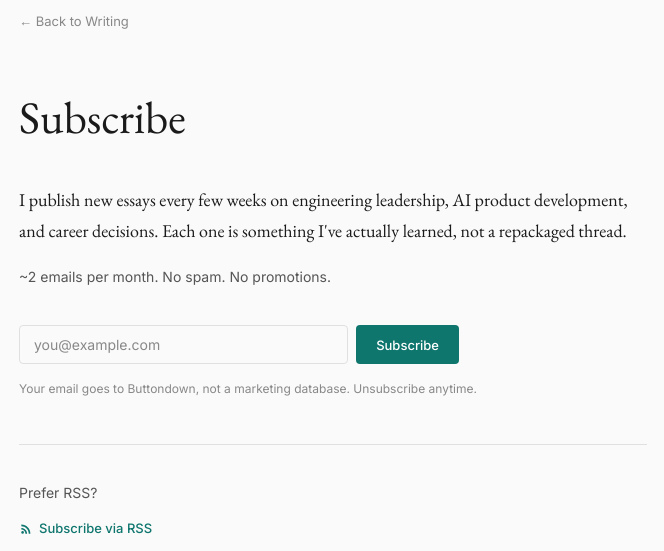
Test: Subscribe page — loading state › shows "Subscribing…" during loading
Type "test@example.com" into the field named "Email address" at [184, 344], box [19,325,348,364]
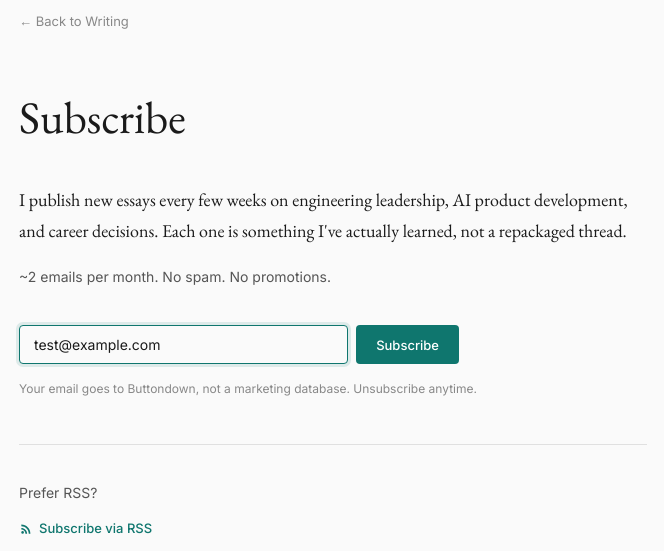
Click the button "Subscribe" at [408, 344], box [356,325,459,364]
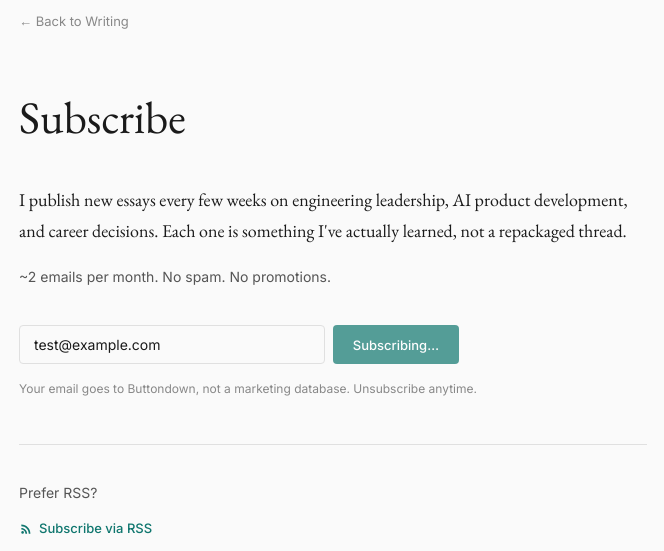
Now the button "Subscribing…" is shown, box [333,325,459,364]
